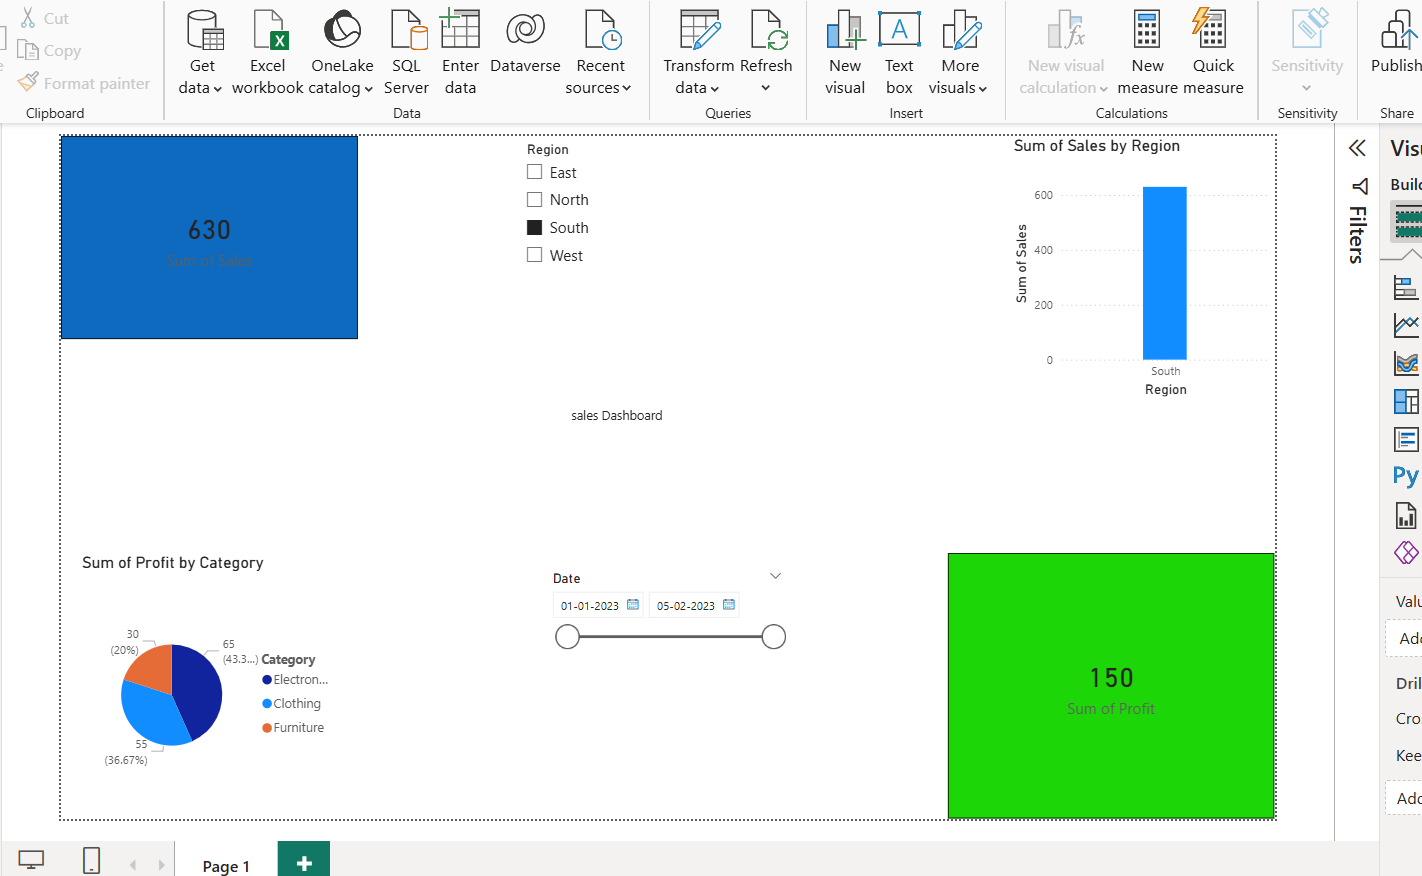

The page's visual inventory and layout, read from the dashboard file:
{"tool":"powerbi","page":{"name":"Page 1","canvas":[1280,720],"ordinal":0},"visuals":[{"type":"clusteredColumnChart","fields":{"Category":["sales_dataset.Region"],"Y":["Sum(sales_dataset.Sales)"]},"box":[1000,0,280,280],"z":0},{"type":"pieChart","fields":{"Category":["sales_dataset.Category"],"Y":["Sum(sales_dataset.Profit)"]},"box":[17.1,440,280,280],"z":1},{"type":"card","fields":{"Values":["Sum(sales_dataset.Sales)"]},"box":[0,0,312.9,214.3],"z":2},{"type":"card","fields":{"Values":["Sum(sales_dataset.Profit)"]},"box":[935.7,440,344.3,280],"z":3},{"type":"textbox","box":[478.6,280,262.9,171.4],"z":5},{"type":"slicer","fields":{"Values":["sales_dataset.Region"]},"box":[478.6,0,262.9,232.9],"z":6},{"type":"slicer","fields":{"Values":["sales_dataset.Date"]},"box":[505.7,452.9,267.1,257.1],"z":7}]}

Visuals, with their boxes on the page's 1280x720 design canvas (x1, y1, x2, y2). These are canvas units, not pixel positions in the 1422x876 screenshot, which may show the page scaled, cropped or inside an application window:
clusteredColumnChart - sales_dataset.Region x Sum(sales_dataset.Sales): 1000/0/1280/280
pieChart - sales_dataset.Category x Sum(sales_dataset.Profit): 17/440/297/720
card - Sum(sales_dataset.Sales): 0/0/313/214
card - Sum(sales_dataset.Profit): 936/440/1280/720
textbox: 479/280/742/451
slicer - sales_dataset.Region: 479/0/742/233
slicer - sales_dataset.Date: 506/453/773/710
